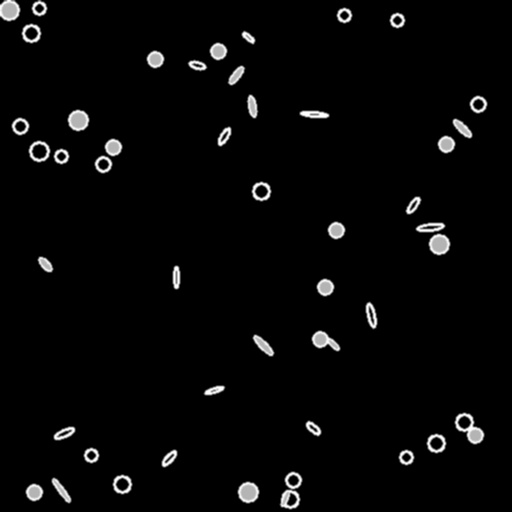pseudomonas: (50, 477, 72, 503), (252, 334, 274, 356), (452, 118, 472, 138), (227, 65, 245, 85), (160, 449, 178, 467), (216, 126, 232, 146), (53, 426, 75, 440), (405, 196, 421, 214), (416, 222, 444, 232), (37, 256, 53, 272), (305, 420, 321, 436), (366, 303, 376, 327), (300, 110, 328, 118), (247, 95, 257, 117), (279, 489, 291, 507), (241, 30, 255, 44), (326, 337, 340, 351), (188, 60, 206, 70), (205, 385, 223, 395), (173, 267, 179, 287)
synechocystis: (30, 142, 48, 160), (239, 483, 257, 501), (69, 111, 87, 129), (430, 235, 448, 253), (0, 1, 18, 19), (253, 183, 269, 199), (428, 435, 444, 451), (282, 491, 298, 507), (23, 25, 39, 41), (456, 414, 472, 430), (114, 476, 130, 492), (329, 223, 343, 237), (471, 97, 485, 111), (439, 137, 453, 151), (96, 157, 110, 171), (286, 473, 300, 487), (211, 44, 225, 58), (27, 485, 41, 499), (313, 332, 327, 346), (148, 52, 162, 66), (106, 140, 120, 154), (468, 428, 482, 442), (318, 280, 332, 294), (13, 119, 27, 133), (400, 451, 412, 463), (55, 150, 67, 162), (85, 449, 97, 461), (338, 9, 350, 21), (33, 2, 45, 14), (391, 14, 403, 26)
